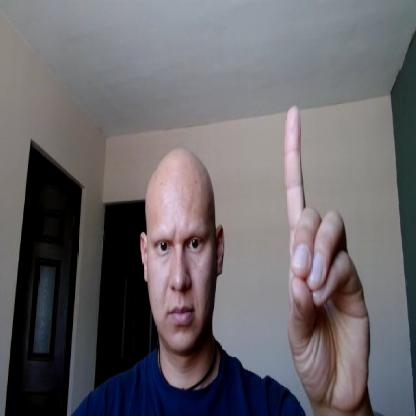D: (283, 105, 370, 411)
